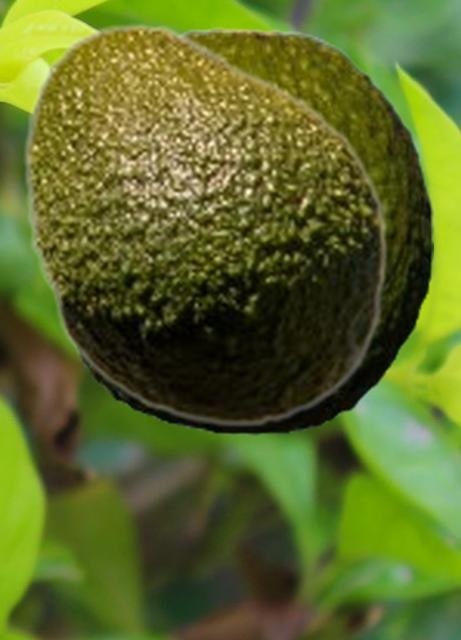avocado: (49, 27, 432, 434), (22, 22, 388, 428)
